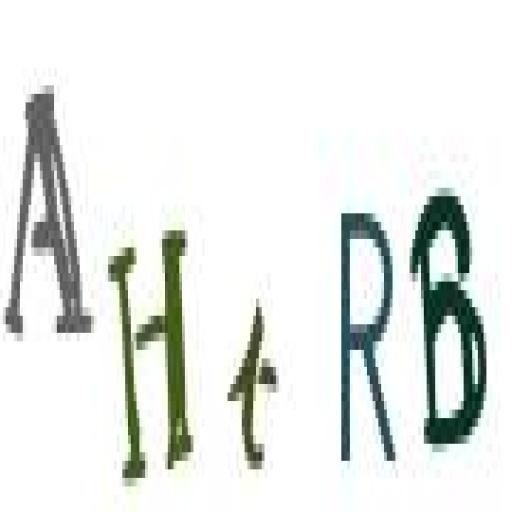A: (0, 69, 102, 361)
B: (411, 170, 496, 462)
H: (103, 208, 197, 495)
R: (338, 194, 406, 484)
t: (226, 275, 282, 491)
